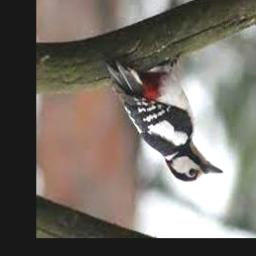Woodpecker: (107, 55, 225, 182)
